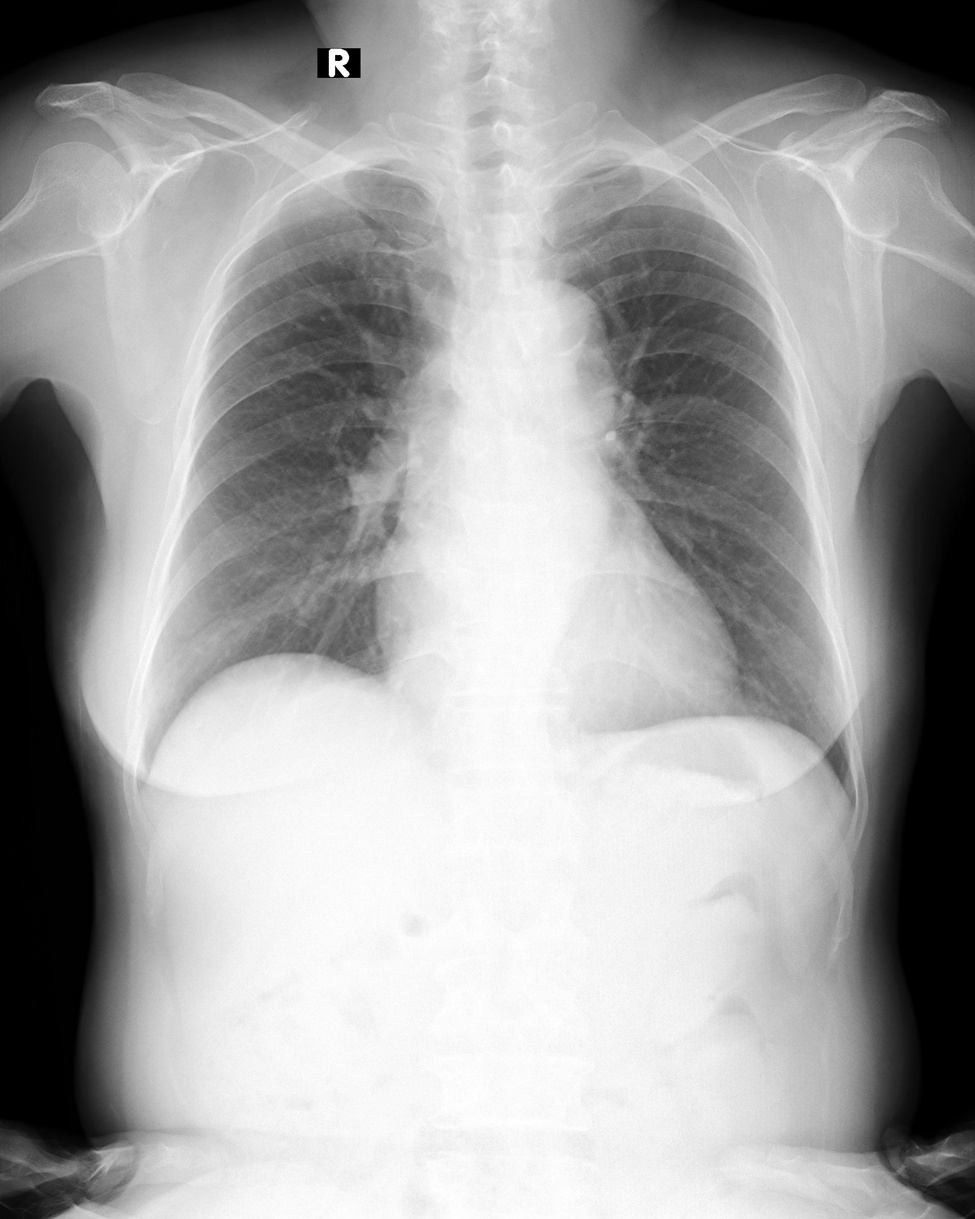Aortic enlargement: (499, 279, 614, 417)
